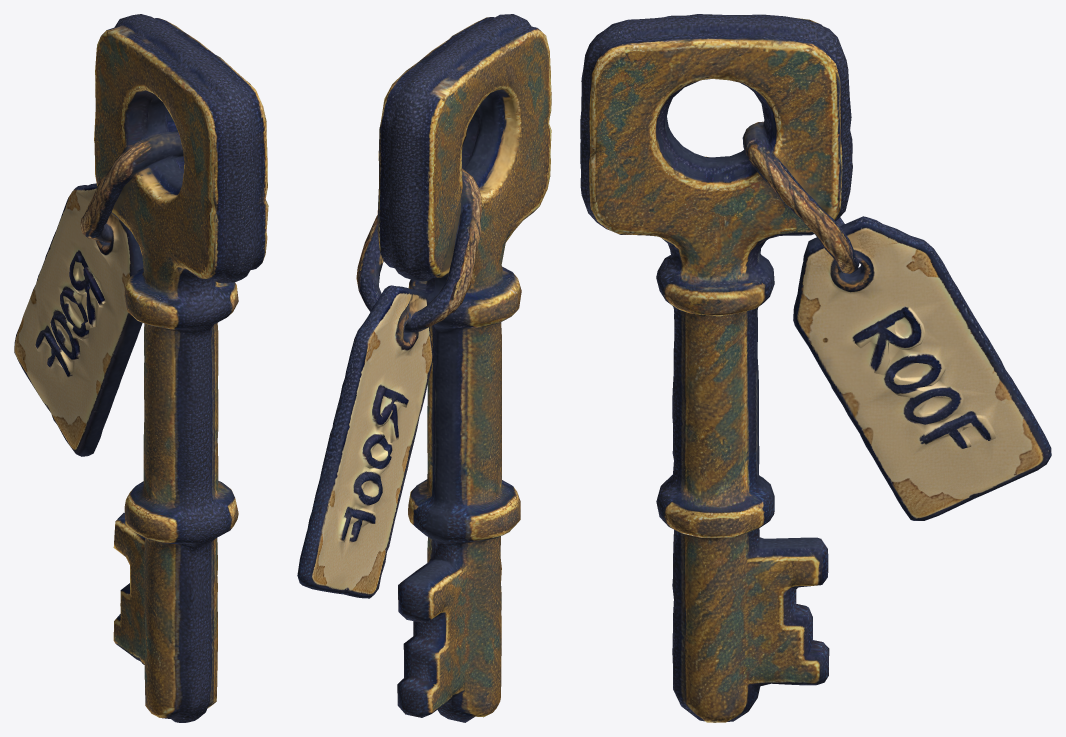
File: KeyRoof.fbx
The picture shows the model from 3 angles, left to right: view 1: azimuth 30°, elevation 25°; view 2: azimuth 150°, elevation 25°; view 3: azimuth 270°, elevation 25°; orthographic projection. The views are drawn at different scales.
Parts seen in each view (by area): view 1: tripo_node_bd0b7880-21b5-408b-b508-dff4159a18e6; view 2: tripo_node_bd0b7880-21b5-408b-b508-dff4159a18e6; view 3: tripo_node_bd0b7880-21b5-408b-b508-dff4159a18e6.
Part boxes in pixels (left/top/right/bottom): tripo_node_bd0b7880-21b5-408b-b508-dff4159a18e6: left=14, top=14, right=268, bottom=722; tripo_node_bd0b7880-21b5-408b-b508-dff4159a18e6: left=297, top=14, right=551, bottom=722; tripo_node_bd0b7880-21b5-408b-b508-dff4159a18e6: left=580, top=14, right=1051, bottom=722.
Size of the model in its own units: 15.29 by 100 by 60.71.
1 material, 1 textured.
